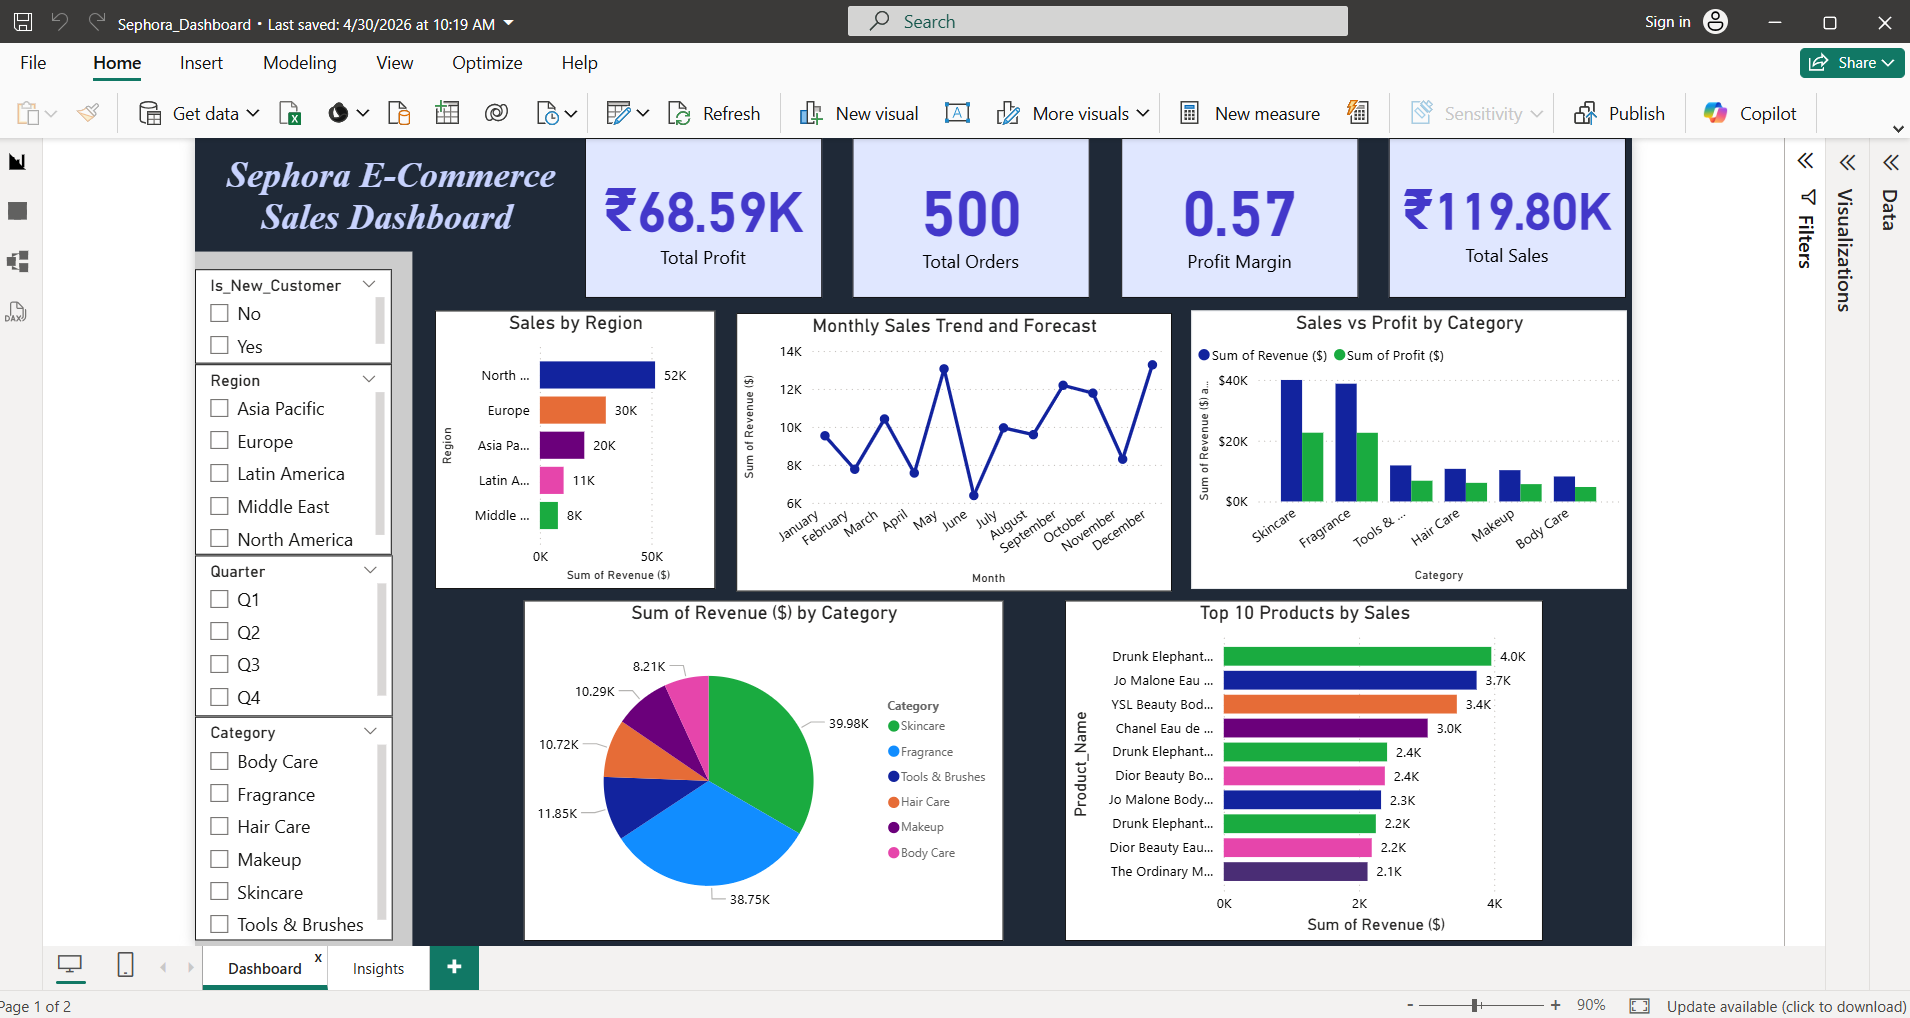

The page's visual inventory and layout, read from the dashboard file:
{"tool":"powerbi","page":{"name":"Dashboard","canvas":[1280,720],"ordinal":0},"visuals":[{"type":"shape","box":[0,101.5,193.2,618.8],"z":0},{"type":"lineChart","title":"Monthly Sales Trend and Forecast","fields":{"Y":["Sum(Sales Data.Revenue ($))"],"Category":["Sales Data.Order_Date.Variation.Date Hierarchy.Month"]},"box":[481.8,155.3,387.6,248.2],"z":1000},{"type":"card","fields":{"Values":["Sales Data.Total Sales"]},"box":[1063.5,0,211.3,142.7],"z":2000},{"type":"card","fields":{"Values":["Sales Data.Total Profit"]},"box":[347.5,0,211.1,142.4],"z":3000},{"type":"card","fields":{"Values":["Sales Data.Total Orders"]},"box":[586,0,211.3,142.7],"z":4000},{"type":"card","fields":{"Values":["Sales Data.Profit Margin"]},"box":[824.7,0,211.3,142.7],"z":5000},{"type":"slicer","fields":{"Values":["Sales Data.Region"]},"box":[0,201.8,174.9,170],"z":6000},{"type":"slicer","fields":{"Values":["Sales Data.Category"]},"box":[0,515.2,176.1,199.1],"z":7000},{"type":"slicer","fields":{"Values":["Sales Data.Quarter"]},"box":[0,371.7,176.1,143.1],"z":8000},{"type":"slicer","fields":{"Values":["Sales Data.Is_New_Customer"]},"box":[0,117.4,174.9,84.4],"z":9000},{"type":"barChart","title":"Top 10 Products by Sales","fields":{"Category":["Sales Data.Product_Name"],"Y":["Sum(Sales Data.Revenue ($))"]},"box":[774.5,411.4,425.9,302.8],"z":10000},{"type":"pieChart","fields":{"Category":["Sales Data.Category"],"Y":["Sum(Sales Data.Revenue ($))"]},"box":[293.2,411.4,427.1,302.8],"z":11000},{"type":"clusteredBarChart","title":"Sales by Region","fields":{"Category":["Sales Data.Region"],"Y":["Sum(Sales Data.Revenue ($))"]},"box":[214,154.1,249.5,248.2],"z":12000},{"type":"clusteredColumnChart","title":"Sales vs Profit by Category","fields":{"Y":["Sum(Sales Data.Revenue ($))","Sum(Sales Data.Profit ($))"],"Category":["Sales Data.Category"]},"box":[887,154.1,387.6,248.2],"z":13000},{"type":"textbox","box":[10.7,8.6,327.1,92.9],"z":14000}]}

Visuals, with their boxes on the page's 1280x720 design canvas (x1, y1, x2, y2). These are canvas units, not pixel positions in the 1910x1018 screenshot, which may show the page scaled, cropped or inside an application window:
shape: <region>0, 102, 193, 720</region>
"Monthly Sales Trend and Forecast" lineChart: <region>482, 155, 869, 404</region>
card - Sales Data.Total Sales: <region>1064, 0, 1275, 143</region>
card - Sales Data.Total Profit: <region>348, 0, 559, 142</region>
card - Sales Data.Total Orders: <region>586, 0, 797, 143</region>
card - Sales Data.Profit Margin: <region>825, 0, 1036, 143</region>
slicer - Sales Data.Region: <region>0, 202, 175, 372</region>
slicer - Sales Data.Category: <region>0, 515, 176, 714</region>
slicer - Sales Data.Quarter: <region>0, 372, 176, 515</region>
slicer - Sales Data.Is_New_Customer: <region>0, 117, 175, 202</region>
"Top 10 Products by Sales" barChart: <region>774, 411, 1200, 714</region>
pieChart - Sales Data.Category x Sum(Sales Data.Revenue ($)): <region>293, 411, 720, 714</region>
"Sales by Region" clusteredBarChart: <region>214, 154, 464, 402</region>
"Sales vs Profit by Category" clusteredColumnChart: <region>887, 154, 1275, 402</region>
textbox: <region>11, 9, 338, 102</region>
